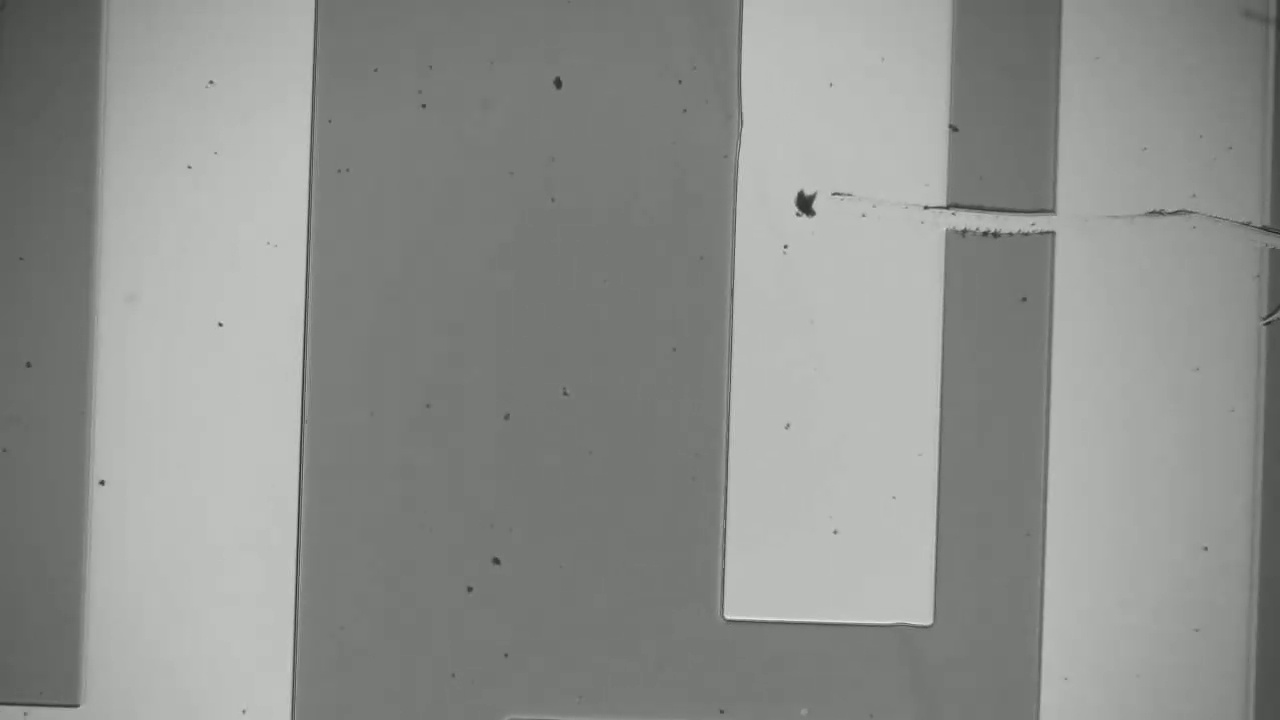Short_circuit: (902, 193, 1089, 256)
